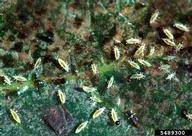Thrips: (51, 85, 68, 106), (56, 57, 72, 74), (12, 105, 24, 127), (92, 105, 108, 121), (102, 73, 116, 91), (128, 59, 144, 74), (149, 10, 161, 26), (176, 18, 186, 37), (76, 120, 87, 135), (128, 35, 139, 46)
